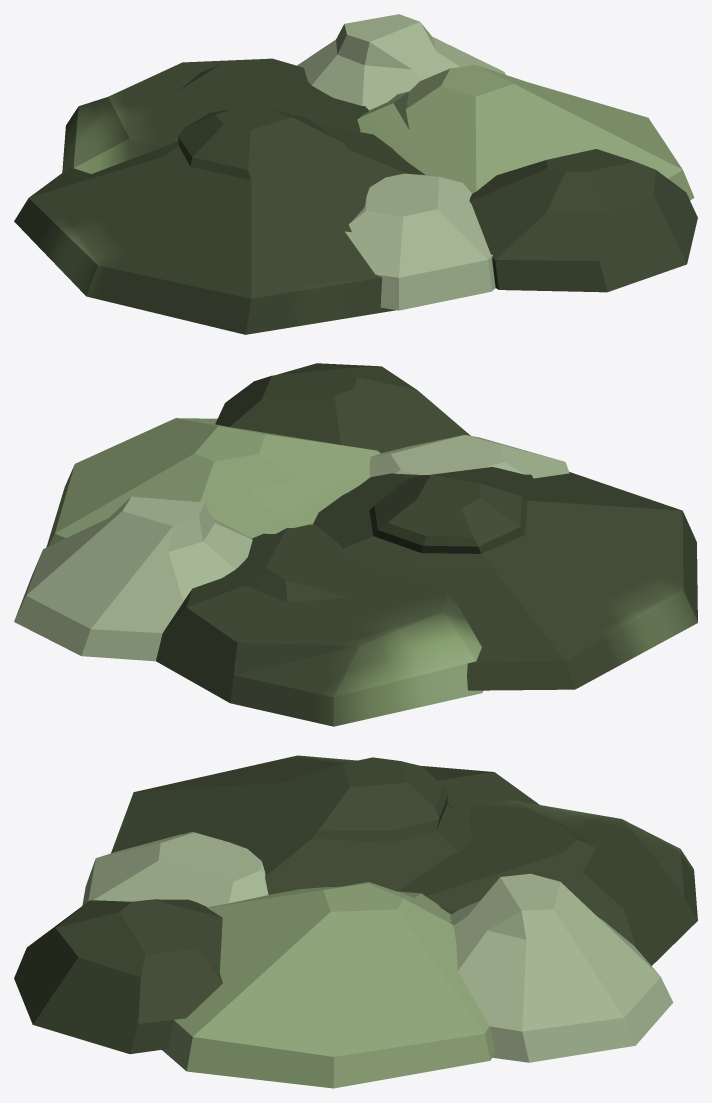
Rendered from EA_Swamp_Grass_Hill_Dead_01b.001.glb.
3 views of the same model, one above another, from view 1: azimuth 30°, elevation 25°; view 2: azimuth 150°, elevation 25°; view 3: azimuth 270°, elevation 25° (orthographic). The views are drawn at different scales.
Parts seen in each view (by area): view 1: EA_Swamp_Grass_Hill_Dead_01b.001; view 2: EA_Swamp_Grass_Hill_Dead_01b.001; view 3: EA_Swamp_Grass_Hill_Dead_01b.001.
Boxes of the visible parts, box(x1,y1,x2,y2) form: EA_Swamp_Grass_Hill_Dead_01b.001: box(14, 14, 697, 334); EA_Swamp_Grass_Hill_Dead_01b.001: box(14, 363, 697, 726); EA_Swamp_Grass_Hill_Dead_01b.001: box(14, 755, 697, 1088).
Bounding box in the file's own units: 2.81 × 0.4999 × 2.62.
1 material, 1 textured.
